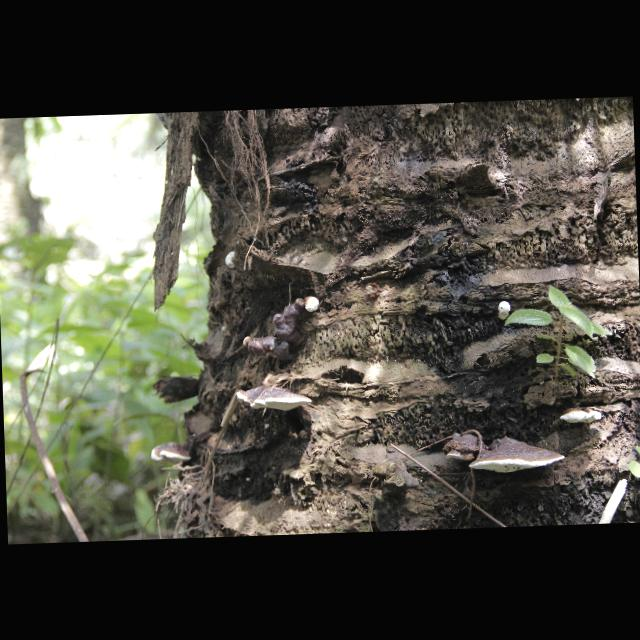ganoderma: (468, 435, 566, 475), (249, 298, 306, 364), (237, 385, 313, 415), (442, 433, 483, 463), (150, 444, 191, 466), (560, 407, 603, 425)
primordium: (498, 302, 512, 322), (305, 297, 320, 314), (225, 252, 237, 270), (243, 337, 251, 349)
